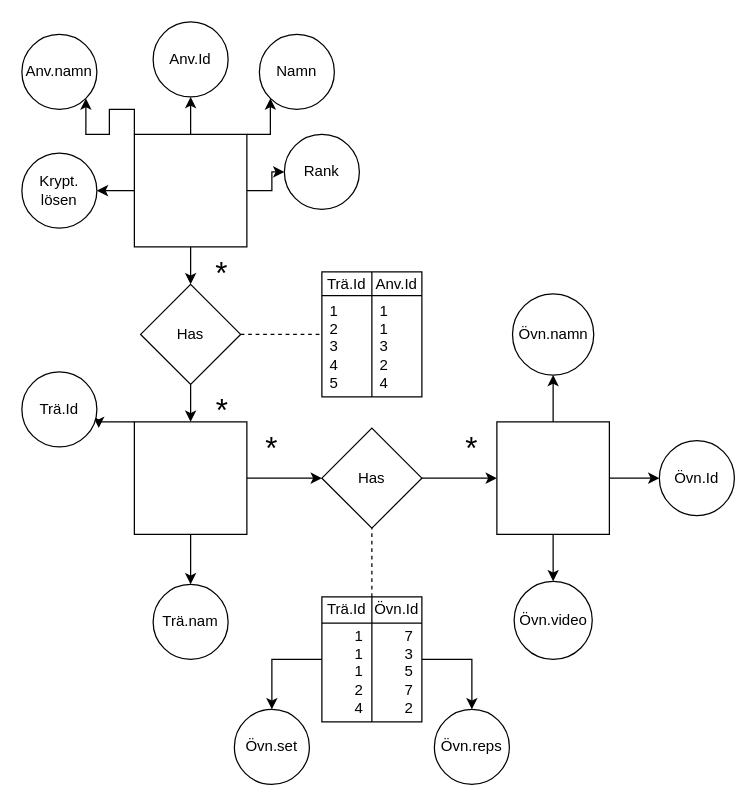
This 756x806 diagram has some shape labels left out. The centre of each missing label's shape, as x and y in pixels:
"Användare" goes at (x=190, y=190).
"Trängings- schema" goes at (x=190, y=477).
"Övningar" goes at (x=552, y=477).
